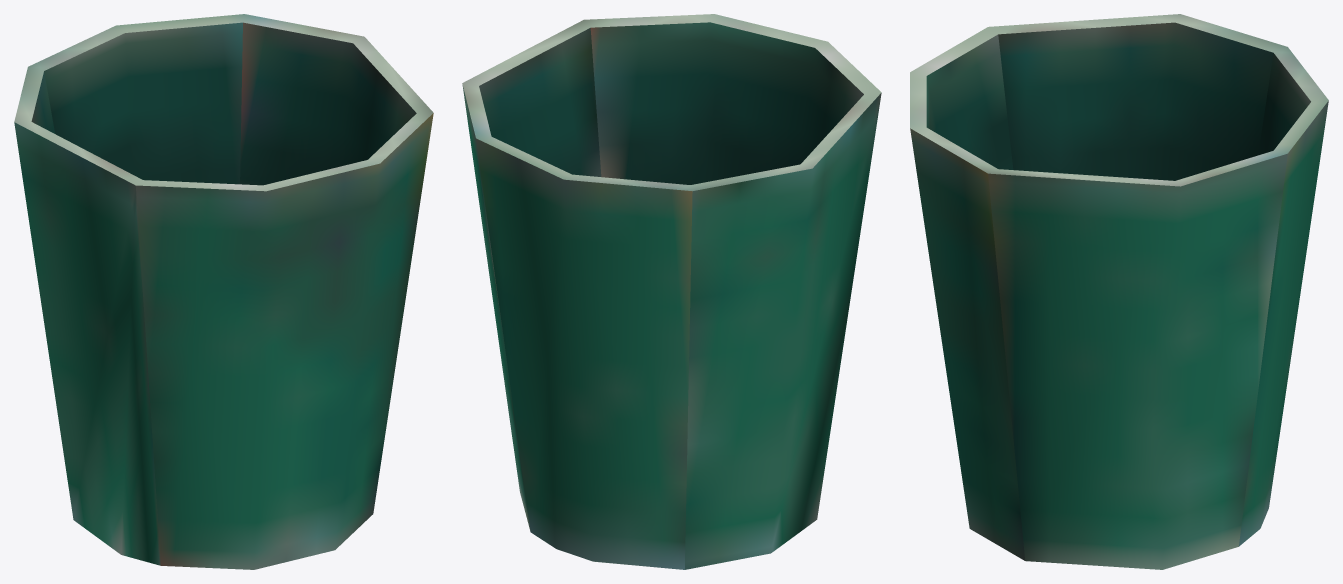
File: junk_10-v2.glb
The picture shows the model from 3 angles, left to right: view 1: azimuth 30°, elevation 25°; view 2: azimuth 150°, elevation 25°; view 3: azimuth 270°, elevation 25°; orthographic projection.
Visible parts, largest first — view 1: junk_10; view 2: junk_10; view 3: junk_10.
Boxes of the visible parts, box(x1,y1,x2,y2) form: junk_10: box(14, 14, 433, 569); junk_10: box(462, 14, 881, 569); junk_10: box(910, 14, 1328, 569).
Bounding box in the file's own units: 1.16 × 1.28 × 1.19.
1 material, 1 textured.
